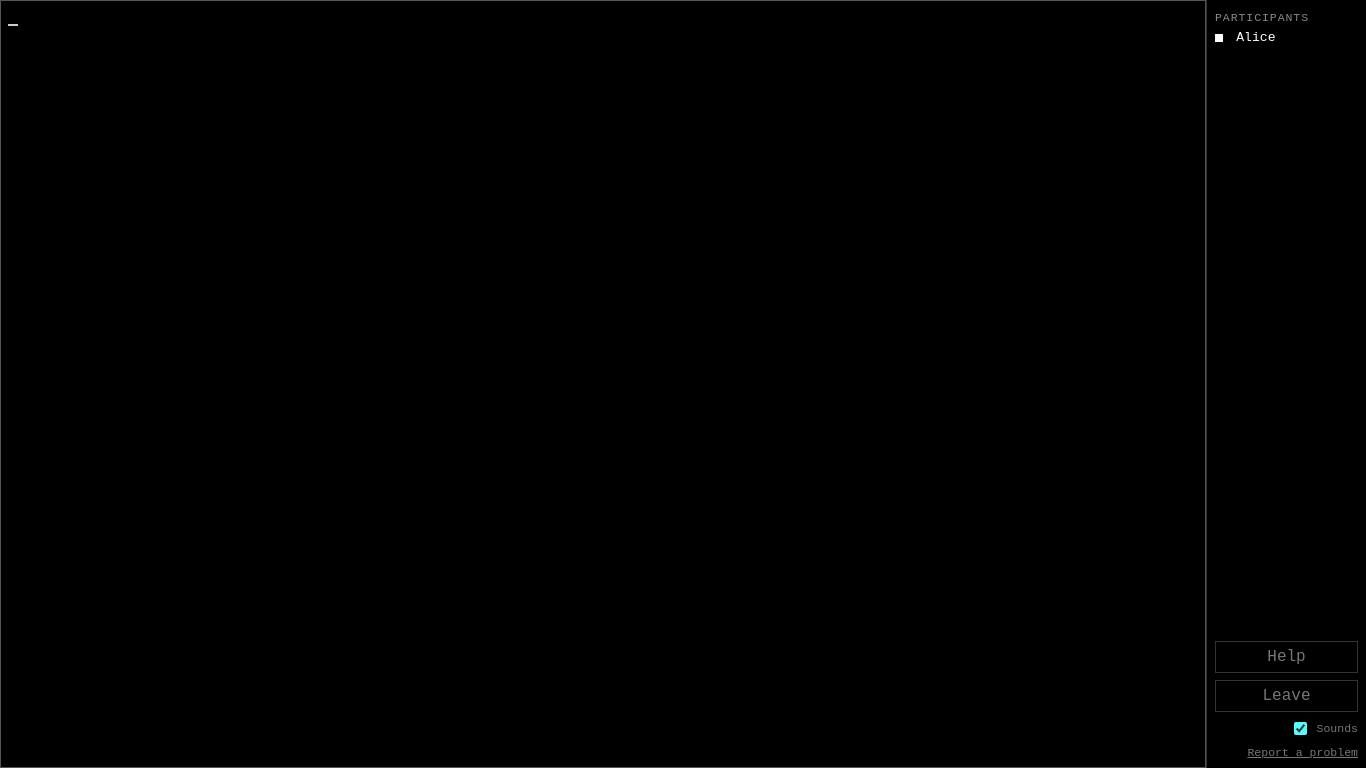
Test case: Help dialog › lists the @ autocomplete keys
Click the button "Help" at (1286, 657), box [1215,641,1358,673]
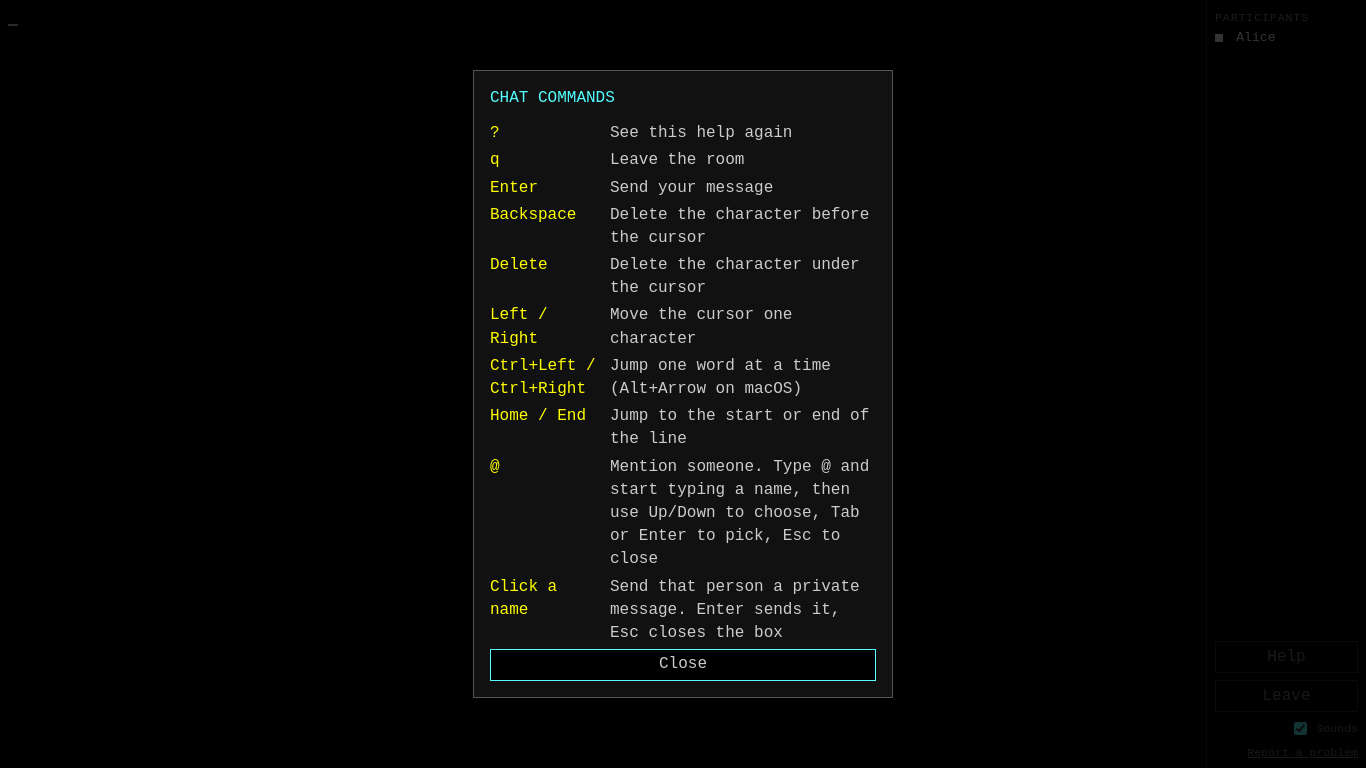
Expected: the text "@" is shown, [490,458,500,476]
Expected: the text "Up/Down to choose, Tab or Enter to pick, Esc to close" is shown, [610,458,869,568]
